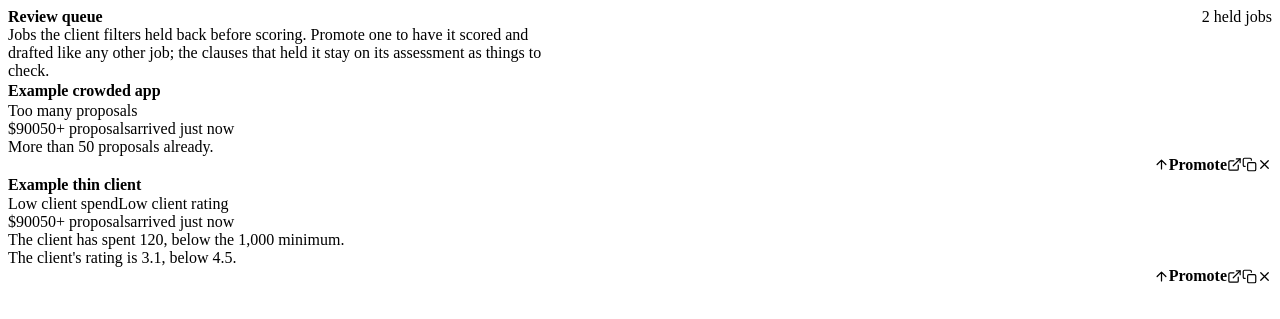
Test: the review queue › keeps the card and says why when the job is no longer held
Click the 1st button "Promote". click: click(1190, 165)
box: x1=1154 y1=156 x2=1227 y2=174
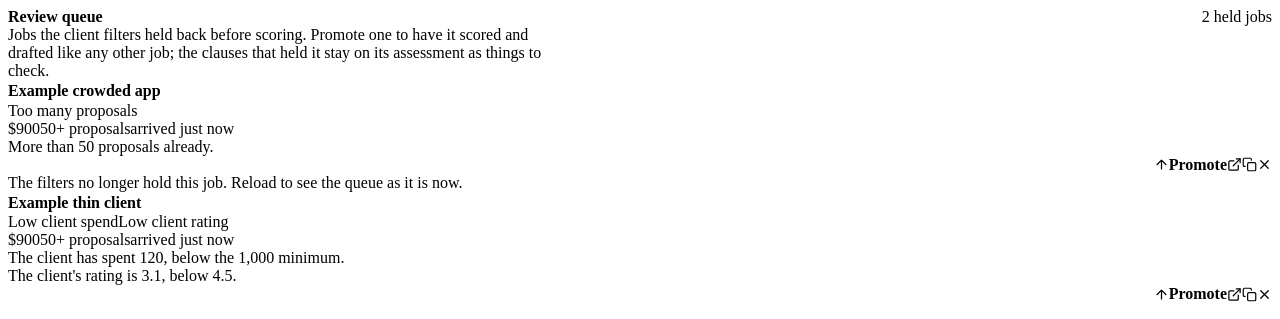
Expected: the text "2 held jobs" is shown, x1=1202 y1=8 x2=1272 y2=26
Expected: the text "The filters no longer hold this job." is shown, x1=8 y1=174 x2=462 y2=191
